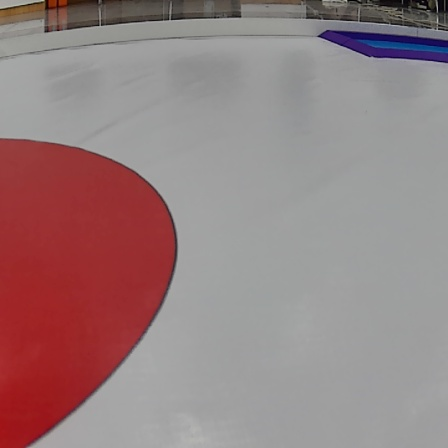blue_aim: (317, 25, 448, 69)
red_base: (0, 130, 179, 448)
